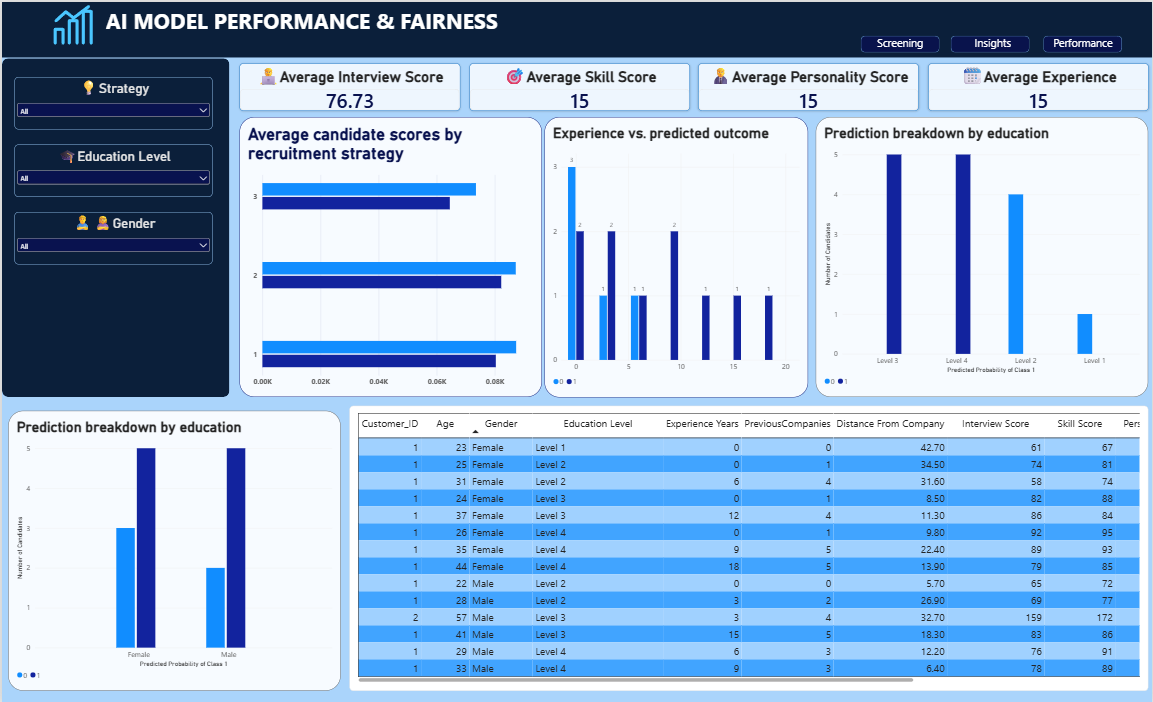

The page's visual inventory and layout, read from the dashboard file:
{"tool":"powerbi","page":{"name":"Page 1","canvas":[2300,1400],"ordinal":1},"visuals":[{"type":"shape","box":[0,0,2300.5,111],"z":0},{"type":"cardVisual","title":"🧑💻Average Interview Score","fields":{"Data":["new_candidates_synthetic_scored.Average Interview Score"]},"box":[474.8,121.7,441.4,95.4],"z":1000},{"type":"clusteredBarChart","title":"Average candidate scores by recruitment strategy","fields":{"Category":["new_candidates_synthetic_scored.RecruitmentStrategy"],"Y":["Avg(new_candidates_synthetic_scored.SkillScore)","Avg(new_candidates_synthetic_scored.InterviewScore)"]},"box":[475,230,605,560],"z":2000},{"type":"textbox","box":[207.6,7.2,1569.9,114.5],"z":3000},{"type":"shape","title":"Candidate","box":[1717.1,67.1,157.5,33.4],"z":4000},{"type":"shape","box":[0,112.5,455,677.5],"z":5000},{"type":"slicer","title":"💡Strategy","fields":{"Values":["new_candidates_synthetic_scored.Strategy Label"]},"box":[26.2,150.3,396,105],"z":6000},{"type":"image","box":[90.7,0,105,100.2],"z":7000},{"type":"clusteredColumnChart","title":"Experience vs. predicted outcome","fields":{"Category":["new_candidates_synthetic_scored.ExperienceYears (bins)"],"Series":["new_candidates_synthetic_scored.prediction"],"Y":["new_candidates_synthetic_scored.Candidate Count"]},"box":[1085,230,527.3,560.7],"z":8000},{"type":"cardVisual","title":"🎯Average Skill Score","fields":{"Data":["new_candidates_synthetic_scored.Candidate Count"]},"box":[933.9,121.7,441,95.4],"z":9000},{"type":"cardVisual","title":"🧑💼Average Personality Score","fields":{"Data":["new_candidates_synthetic_scored.Candidate Count"]},"box":[1392.7,121.7,441,95.4],"z":10000},{"type":"cardVisual","title":"🗓️Average Experience","fields":{"Data":["new_candidates_synthetic_scored.Candidate Count"]},"box":[1851.4,121.7,441,95.4],"z":11000},{"type":"clusteredColumnChart","title":"Prediction breakdown by education","fields":{"Category":["new_candidates_synthetic_scored.Education Level Label"],"Series":["new_candidates_synthetic_scored.prediction"],"Y":["CountNonNull(new_candidates_synthetic_scored.Customer_ID)"]},"box":[1627.5,230,665,560],"z":12000},{"type":"slicer","title":"🎓Education Level","fields":{"Values":["new_candidates_synthetic_scored.Education Level Label"]},"box":[26.2,285.1,396,105],"z":13000},{"type":"slicer","title":"🙎♂️🙎♀️Gender","fields":{"Values":["new_candidates_synthetic_scored.Gender Label"]},"box":[26.2,419.9,396,105],"z":14000},{"type":"shape","title":"Candidate","box":[1898.6,67.1,157.5,33.4],"z":15000},{"type":"shape","title":"Candidate","box":[2082.9,67.1,157.5,33.4],"z":16000},{"type":"textbox","box":[1944.3,67.9,111.4,32.9],"z":17000},{"type":"textbox","box":[2103.6,67.9,141.4,32.9],"z":18000},{"type":"textbox","box":[1750.7,67.9,111.4,32.9],"z":19000},{"type":"tableEx","fields":{"Values":["CountNonNull(new_candidates_synthetic_scored.Customer_ID)","Sum(new_candidates_synthetic_scored.Age)","new_candidates_synthetic_scored.Gender Label","new_candidates_synthetic_scored.Education Level Label","new_candidates_synthetic_scored.ExperienceYears (bins)","Sum(new_candidates_synthetic_scored.PreviousCompanies)","Sum(new_candidates_synthetic_scored.DistanceFromCompany)","Sum(new_candidates_synthetic_scored.InterviewScore)","Sum(new_candidates_synthetic_scored.SkillScore)","Sum(new_candidates_synthetic_scored.PersonalityScore)","Sum(new_candidates_synthetic_scored.RecruitmentStrategy)","Sum(new_candidates_synthetic_scored.proba_1)"]},"box":[695,807.5,1597.5,570],"z":20000},{"type":"clusteredColumnChart","title":"Prediction breakdown by education","fields":{"Category":["new_candidates_synthetic_scored.Gender Label"],"Series":["new_candidates_synthetic_scored.prediction"],"Y":["CountNonNull(new_candidates_synthetic_scored.Customer_ID)"]},"box":[12.5,817.5,665,560],"z":20001}]}

Visuals, with their boxes in screenshot pixels (x1, y1, x2, y2), scaled from the page's 2300x1400 canvas onto the 1153x702 screenshot:
shape: {"x1": 0, "y1": 0, "x2": 1152, "y2": 56}
"🧑💻Average Interview Score" cardVisual: {"x1": 238, "y1": 61, "x2": 459, "y2": 109}
"Average candidate scores by recruitment strategy" clusteredBarChart: {"x1": 238, "y1": 115, "x2": 541, "y2": 396}
textbox: {"x1": 104, "y1": 4, "x2": 891, "y2": 61}
"Candidate" shape: {"x1": 861, "y1": 34, "x2": 940, "y2": 50}
shape: {"x1": 0, "y1": 56, "x2": 228, "y2": 396}
"💡Strategy" slicer: {"x1": 13, "y1": 75, "x2": 212, "y2": 128}
image: {"x1": 45, "y1": 0, "x2": 98, "y2": 50}
"Experience vs. predicted outcome" clusteredColumnChart: {"x1": 544, "y1": 115, "x2": 808, "y2": 396}
"🎯Average Skill Score" cardVisual: {"x1": 468, "y1": 61, "x2": 689, "y2": 109}
"🧑💼Average Personality Score" cardVisual: {"x1": 698, "y1": 61, "x2": 919, "y2": 109}
"🗓️Average Experience" cardVisual: {"x1": 928, "y1": 61, "x2": 1149, "y2": 109}
"Prediction breakdown by education" clusteredColumnChart: {"x1": 816, "y1": 115, "x2": 1149, "y2": 396}
"🎓Education Level" slicer: {"x1": 13, "y1": 143, "x2": 212, "y2": 196}
"🙎♂️🙎♀️Gender" slicer: {"x1": 13, "y1": 211, "x2": 212, "y2": 263}
"Candidate" shape: {"x1": 952, "y1": 34, "x2": 1031, "y2": 50}
"Candidate" shape: {"x1": 1044, "y1": 34, "x2": 1123, "y2": 50}
textbox: {"x1": 975, "y1": 34, "x2": 1031, "y2": 51}
textbox: {"x1": 1055, "y1": 34, "x2": 1125, "y2": 51}
textbox: {"x1": 878, "y1": 34, "x2": 933, "y2": 51}
tableEx - CountNonNull(new_candidates_synthetic_scored.Customer_ID) x Sum(new_candidates_synthetic_scored.Age): {"x1": 348, "y1": 405, "x2": 1149, "y2": 691}
"Prediction breakdown by education" clusteredColumnChart: {"x1": 6, "y1": 410, "x2": 340, "y2": 691}
